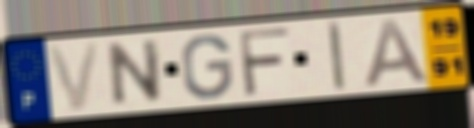A: (362, 17, 435, 90)
F: (236, 26, 294, 100)
G: (180, 32, 236, 102)
I: (325, 19, 349, 94)
N: (107, 37, 165, 109)
V: (43, 39, 103, 114)
